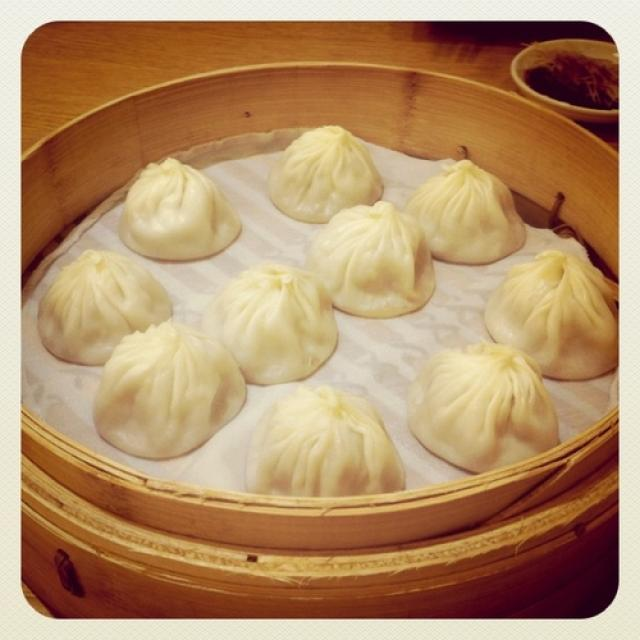带馅早点: (32, 82, 617, 532)
